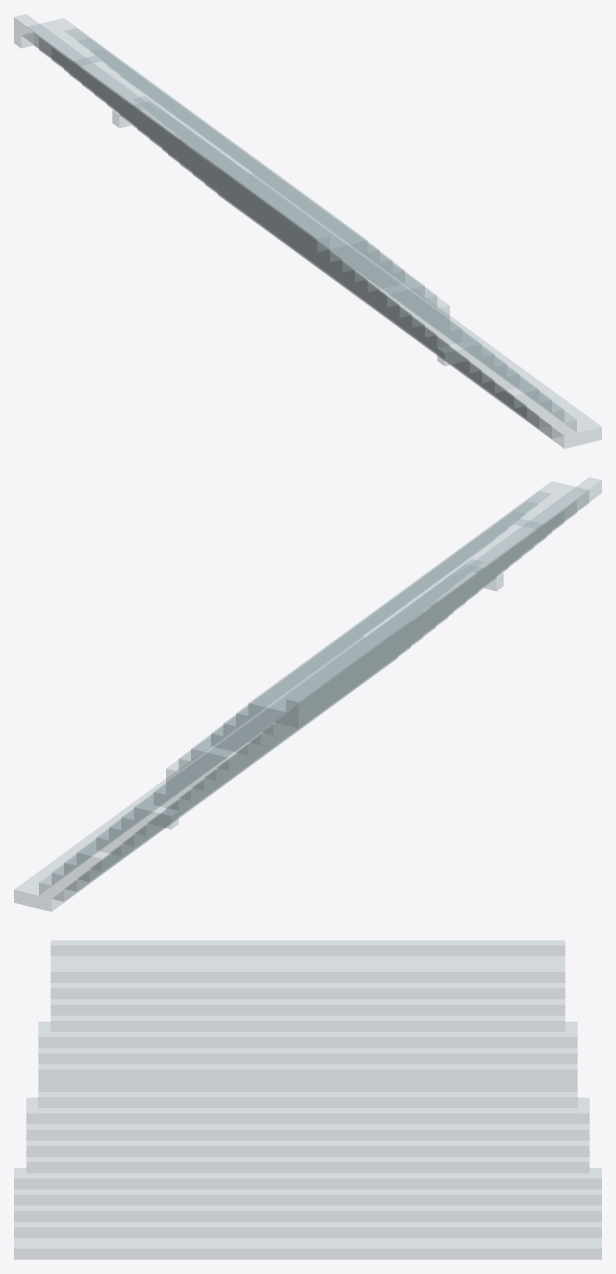
File: crew_pickup_windscreen.glb
The picture shows the model from 3 angles, top to bottom: view 1: azimuth 30°, elevation 25°; view 2: azimuth 150°, elevation 25°; view 3: azimuth 270°, elevation 25°; orthographic projection. The views are drawn at different scales.
Visible parts, largest first — view 1: body:compound; view 2: body:compound; view 3: body:compound.
Part boxes in pixels (x1,y1,x2,y2): body:compound: [14, 14, 601, 448]; body:compound: [14, 477, 601, 911]; body:compound: [14, 940, 601, 1259].
Size of the model in its own units: 0.6562 by 0.5938 by 1.5.
